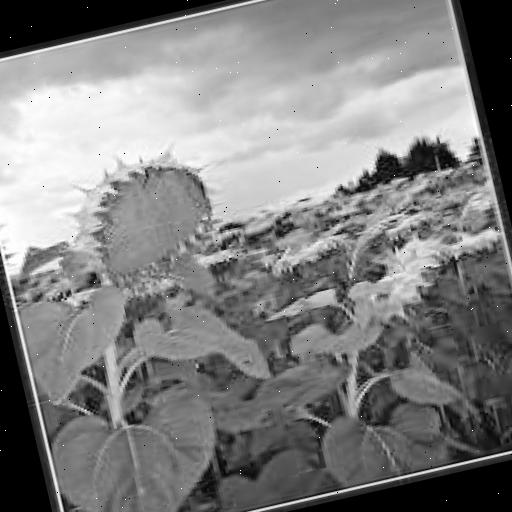sunflower: (60, 138, 226, 293)
